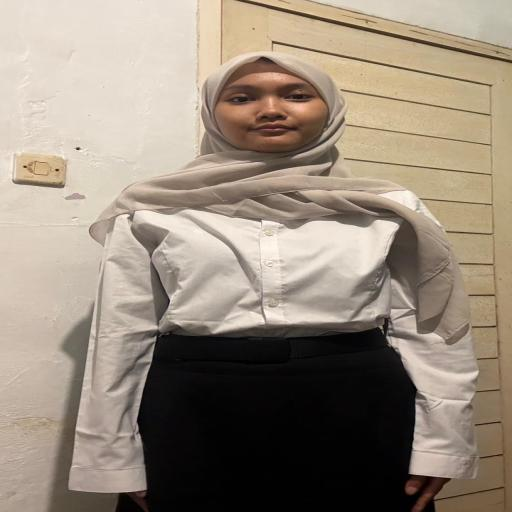kemeja_benar: (100, 198, 448, 336)
kerudung_salah: (122, 48, 410, 220)
rok_benar: (137, 358, 433, 512)
sabuk_ada: (153, 332, 403, 361)
